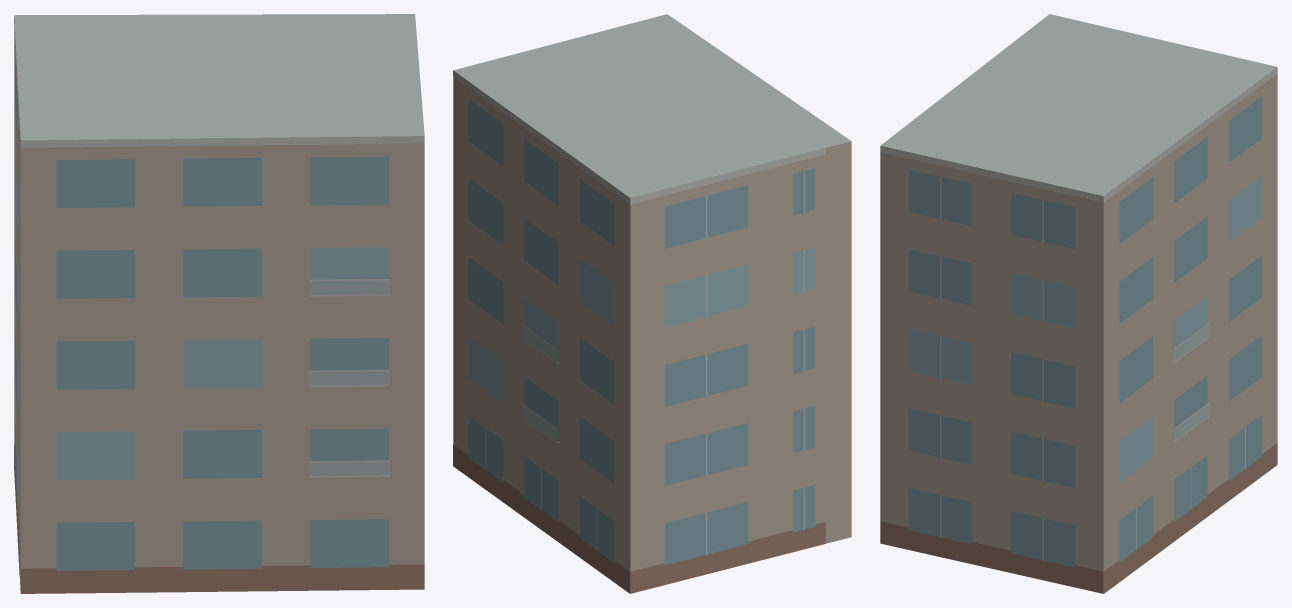
The model's file is survey-upis-32779300.glb.
The picture shows the model from 3 angles, left to right: view 1: azimuth 30°, elevation 25°; view 2: azimuth 150°, elevation 25°; view 3: azimuth 270°, elevation 25°; orthographic projection. The views are drawn at different scales.
Visible parts, largest first — view 1: survey-upis-32779300.tmp; view 2: survey-upis-32779300.tmp; view 3: survey-upis-32779300.tmp.
Boxes of the visible parts, box(x1,y1,x2,y2) form: survey-upis-32779300.tmp: box(14, 14, 424, 593); survey-upis-32779300.tmp: box(453, 14, 851, 593); survey-upis-32779300.tmp: box(880, 14, 1277, 593).
Bounding box in the file's own units: 14.63 × 14.9 × 13.5.
